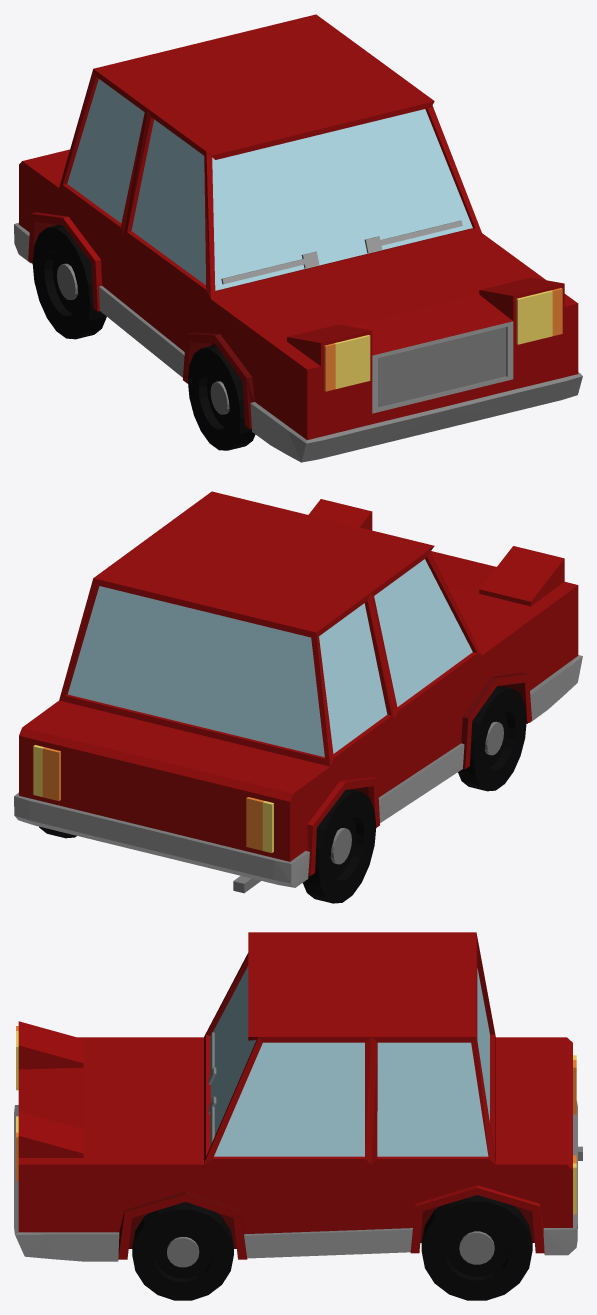
The model's file is Redcar_Model.FBX.
3 renders of one model, top to bottom at view 1: azimuth 30°, elevation 25°; view 2: azimuth 150°, elevation 25°; view 3: azimuth 270°, elevation 25°, orthographic. The views are drawn at different scales.
Visible parts, largest first — view 1: Redcar_model, Wiel_achter, Wiel_voor; view 2: Redcar_model, Wiel_achter, Wiel_voor; view 3: Redcar_model, Wiel_achter, Wiel_voor.
Boxes of the visible parts, box(x1,y1,x2,y2) form: Redcar_model: box(14, 14, 582, 462); Wiel_achter: box(32, 225, 106, 339); Wiel_voor: box(187, 345, 255, 450); Redcar_model: box(14, 491, 582, 893); Wiel_achter: box(39, 789, 376, 903); Wiel_voor: box(458, 685, 526, 791); Redcar_model: box(14, 932, 582, 1261); Wiel_achter: box(421, 1195, 532, 1300); Wiel_voor: box(132, 1202, 233, 1300).
Bounding box in the file's own units: 2566 × 4596 × 2218.
